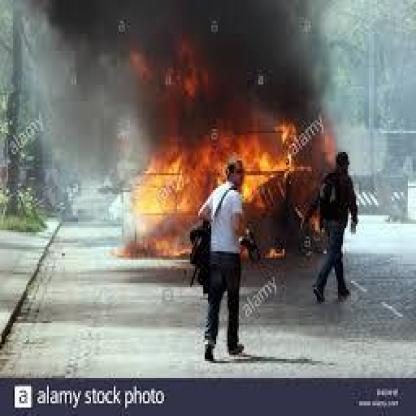fire: (123, 40, 337, 262)
smoke: (0, 0, 130, 249)
